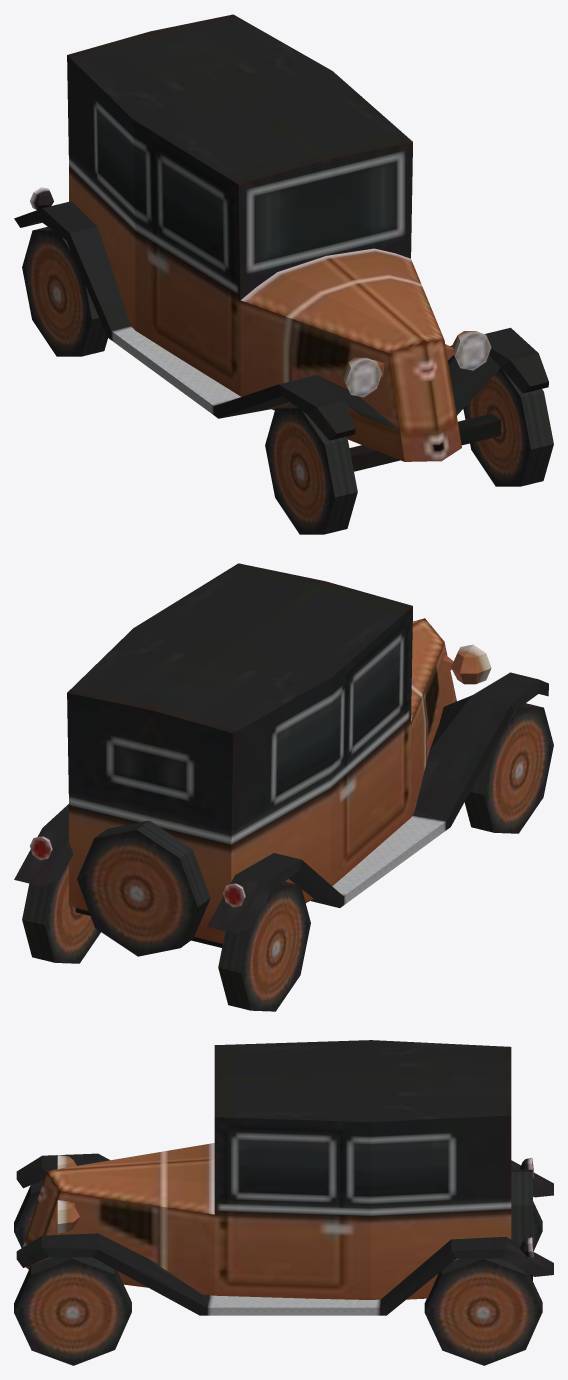
Rendered from car7_brown.glb.
3 renders of one model, top to bottom at view 1: azimuth 30°, elevation 25°; view 2: azimuth 150°, elevation 25°; view 3: azimuth 270°, elevation 25°, orthographic. The views are drawn at different scales.
Visible parts, largest first — view 1: Car7; view 2: Car7; view 3: Car7.
Part boxes in pixels (x1,y1,x2,y2): Car7: (14,14,553,534); Car7: (14,563,553,1011); Car7: (14,1040,553,1365).
Bounding box in the file's own units: 2.43 × 2.86 × 5.78.
Materials: 1 (1 with a texture image).
